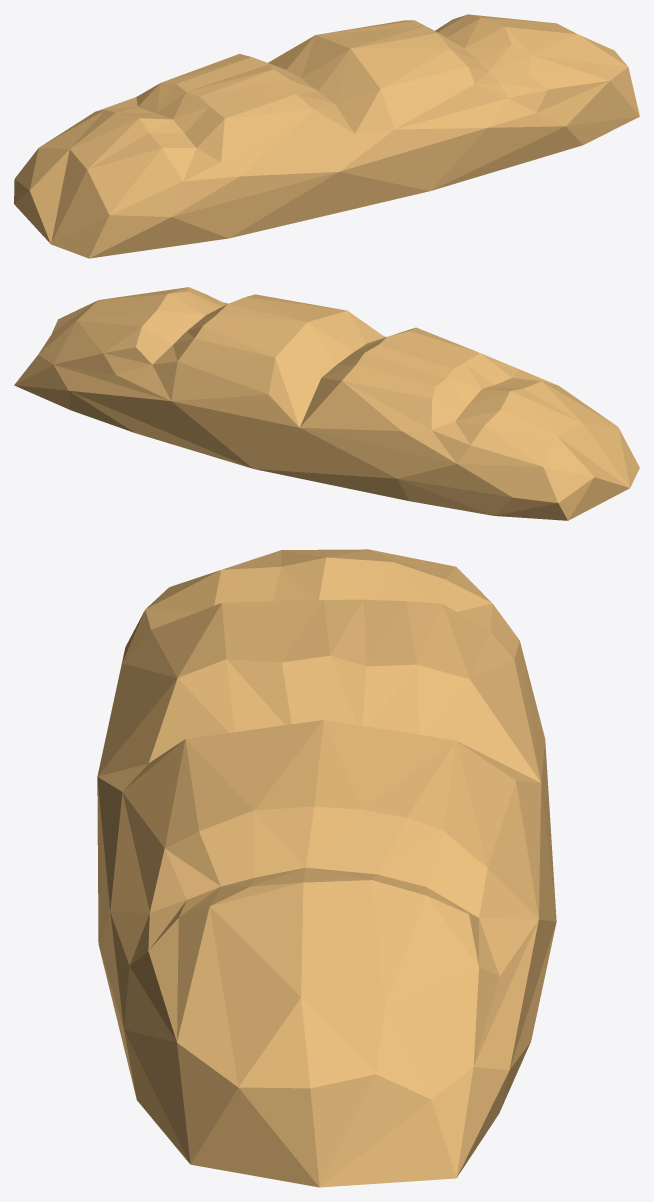
Rendered from whitebreadtop.fbx.
The picture shows the model from 3 angles, top to bottom: view 1: azimuth 30°, elevation 25°; view 2: azimuth 150°, elevation 25°; view 3: azimuth 270°, elevation 25°; orthographic projection. The views are drawn at different scales.
Parts seen in each view (by area): view 1: White Bread Top; view 2: White Bread Top; view 3: White Bread Top.
Part boxes in pixels (x1,y1,x2,y2): White Bread Top: [14, 14, 639, 258]; White Bread Top: [14, 287, 639, 520]; White Bread Top: [97, 549, 556, 1187].
Bounding box in the file's own units: 294 × 50.35 × 102.
